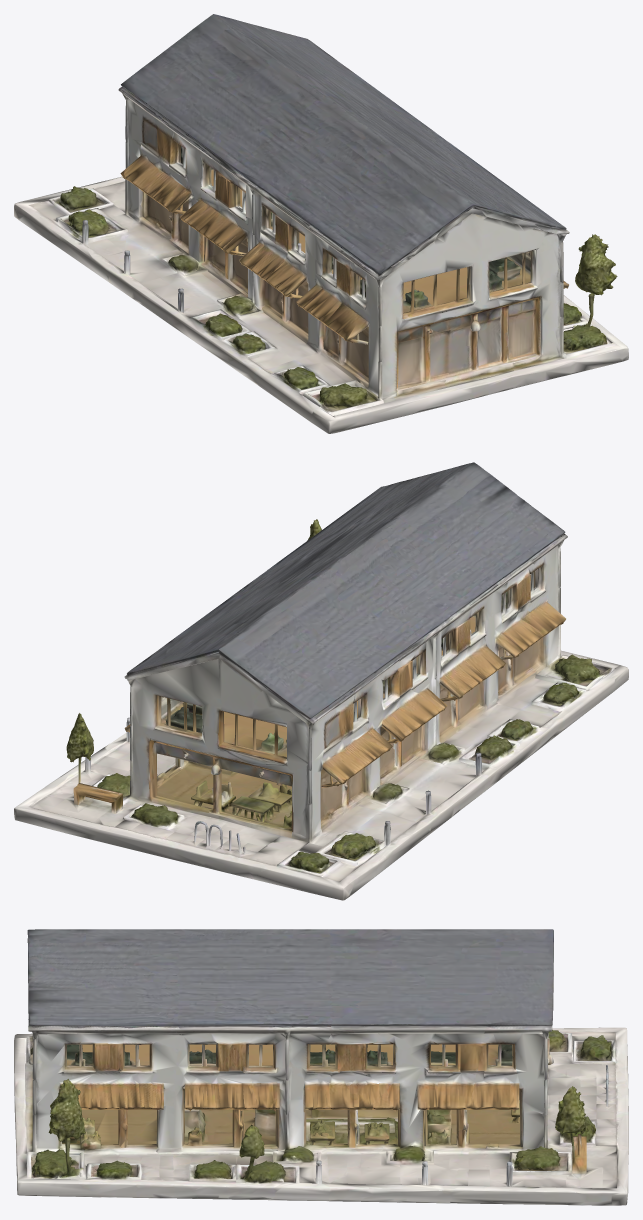
Rendered from b5-shops.glb.
3 renders of one model, top to bottom at view 1: azimuth 30°, elevation 25°; view 2: azimuth 150°, elevation 25°; view 3: azimuth 270°, elevation 25°, orthographic. The views are drawn at different scales.
Parts seen in each view (by area): view 1: tripo_node_d999ef9b-d19c-419f-9ddb-99162201f936; view 2: tripo_node_d999ef9b-d19c-419f-9ddb-99162201f936; view 3: tripo_node_d999ef9b-d19c-419f-9ddb-99162201f936.
Boxes of the visible parts, box(x1,y1,x2,y2) form: tripo_node_d999ef9b-d19c-419f-9ddb-99162201f936: box(14, 14, 628, 433); tripo_node_d999ef9b-d19c-419f-9ddb-99162201f936: box(14, 462, 628, 900); tripo_node_d999ef9b-d19c-419f-9ddb-99162201f936: box(14, 929, 628, 1205).
Size of the model in its own units: 0.6243 by 0.3372 by 0.9798.
1 material, 1 textured.
